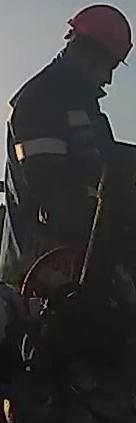helmet: (64, 3, 135, 69)
vest: (0, 91, 113, 300)
